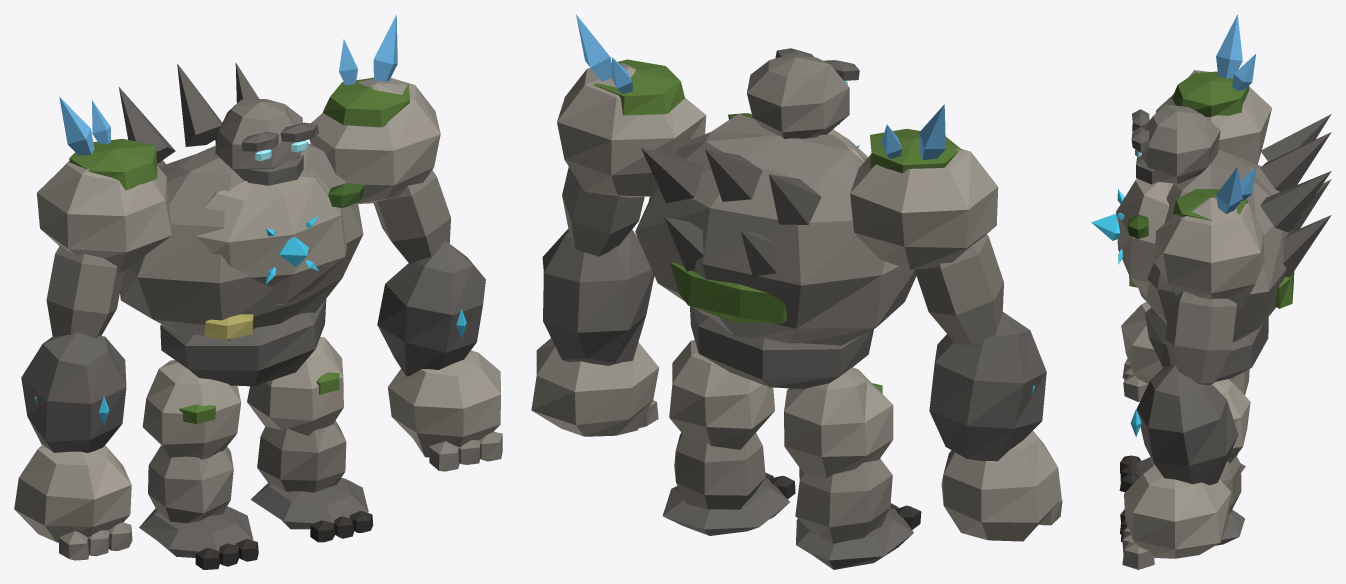
Rendered from Golem.obj.
3 renders of one model, left to right at view 1: azimuth 30°, elevation 25°; view 2: azimuth 150°, elevation 25°; view 3: azimuth 270°, elevation 25°, orthographic. The views are drawn at different scales.
Visible parts, largest first — view 1: Golem; view 2: Golem; view 3: Golem.
Part boxes in pixels (x1,y1,x2,y2): Golem: (14,14,502,569); Golem: (531,14,1062,569); Golem: (1091,14,1331,569).
Bounding box in the file's own units: 2.22 × 2.05 × 1.06.
1 material, 1 textured.
